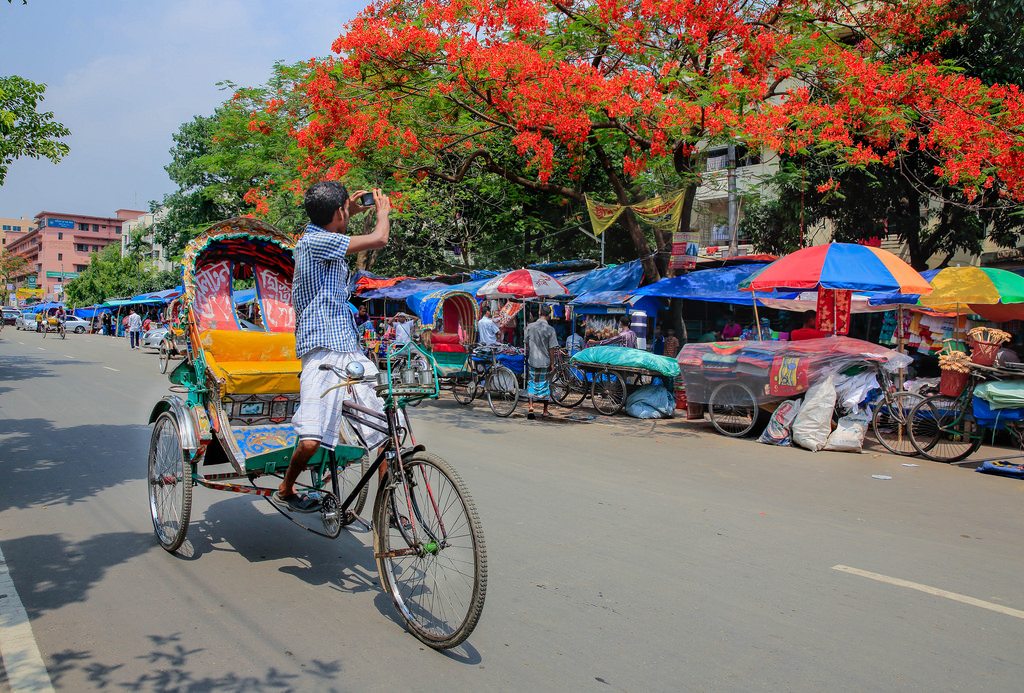Rickshaw: (137, 206, 491, 656), (418, 280, 528, 423), (38, 298, 72, 340)
